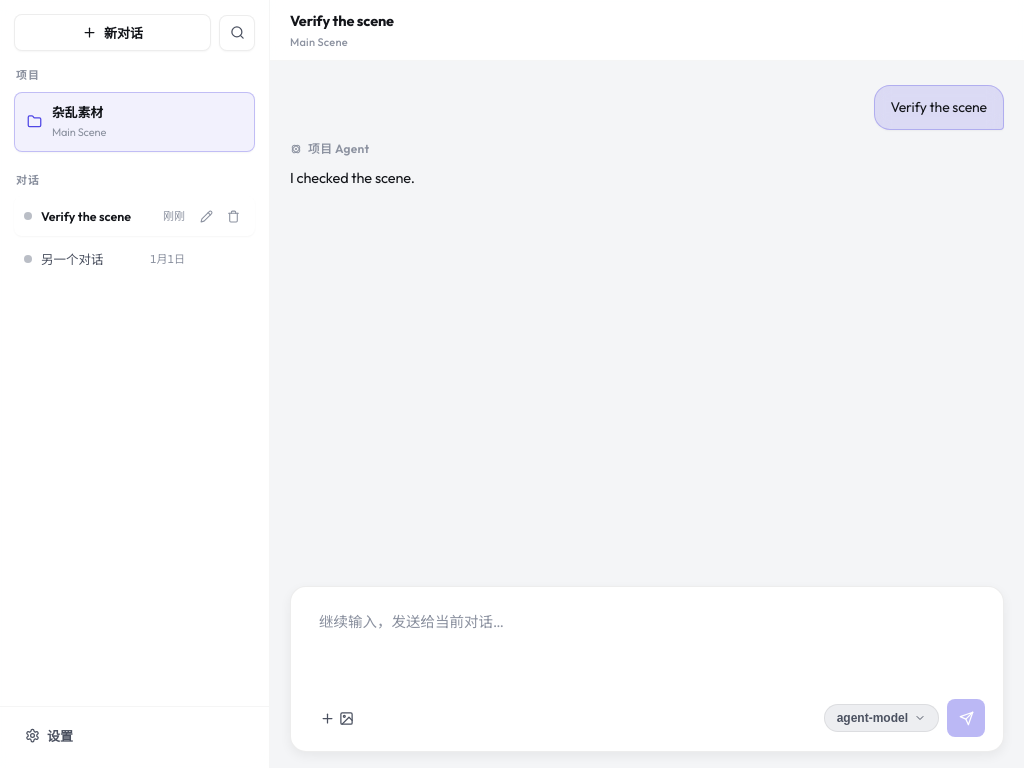
Scenario: AgentWindow conversation thread › scopes pending queued bubbles to the conversation the prompt was sent to
The width and height of the screenshot is (1024, 768).
# Initial conversation selection can replace the composer after findBy resolves.
Type "read the assets" into the text box with placeholder "继续输入，发送给当前对话…".
click(647, 645); type("read the assets")  # box [309,603,985,687]
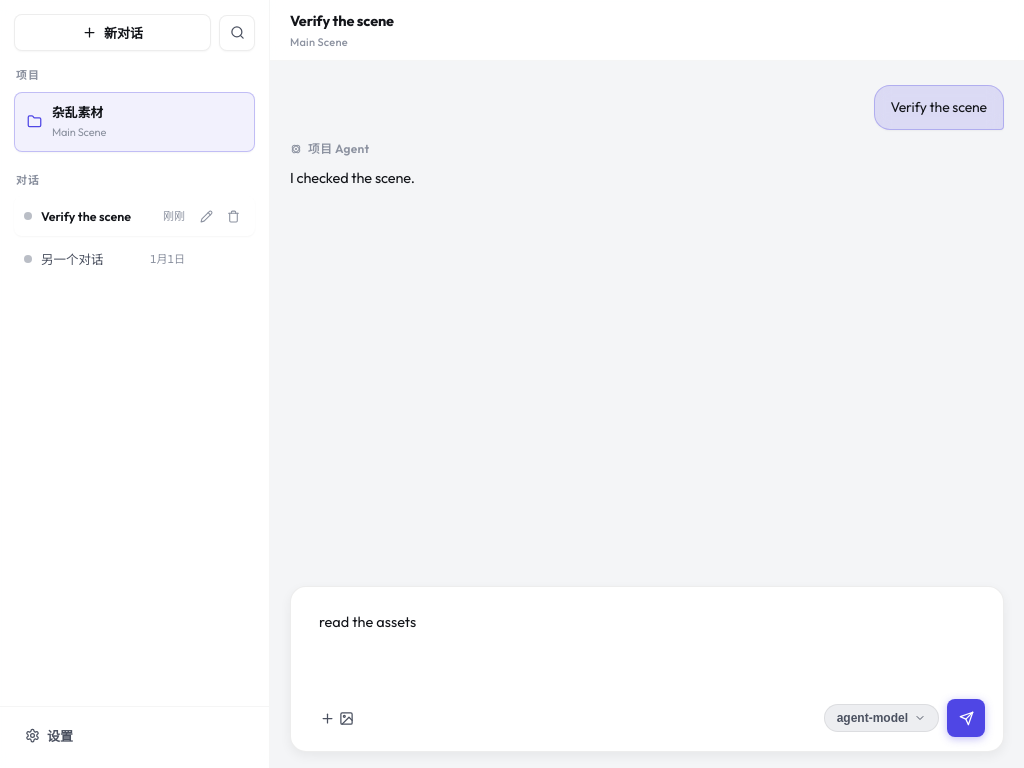
Press Enter in the text box with placeholder "继续输入，发送给当前对话…", box [309,603,985,687]
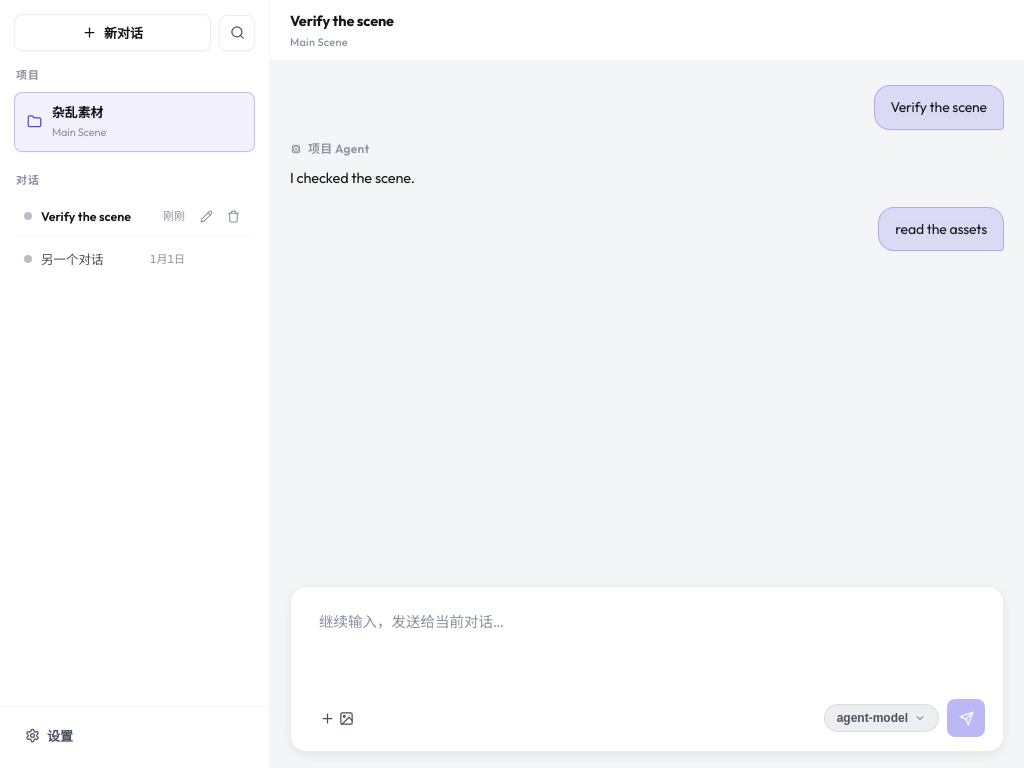
Result: the text "read the assets" is shown once at [895,218,987,240]
# Switching to the other conversation hides the pending bubble.
Click the button "另一个对话 1月1日".
click(134, 259)  # box [14,239,255,279]
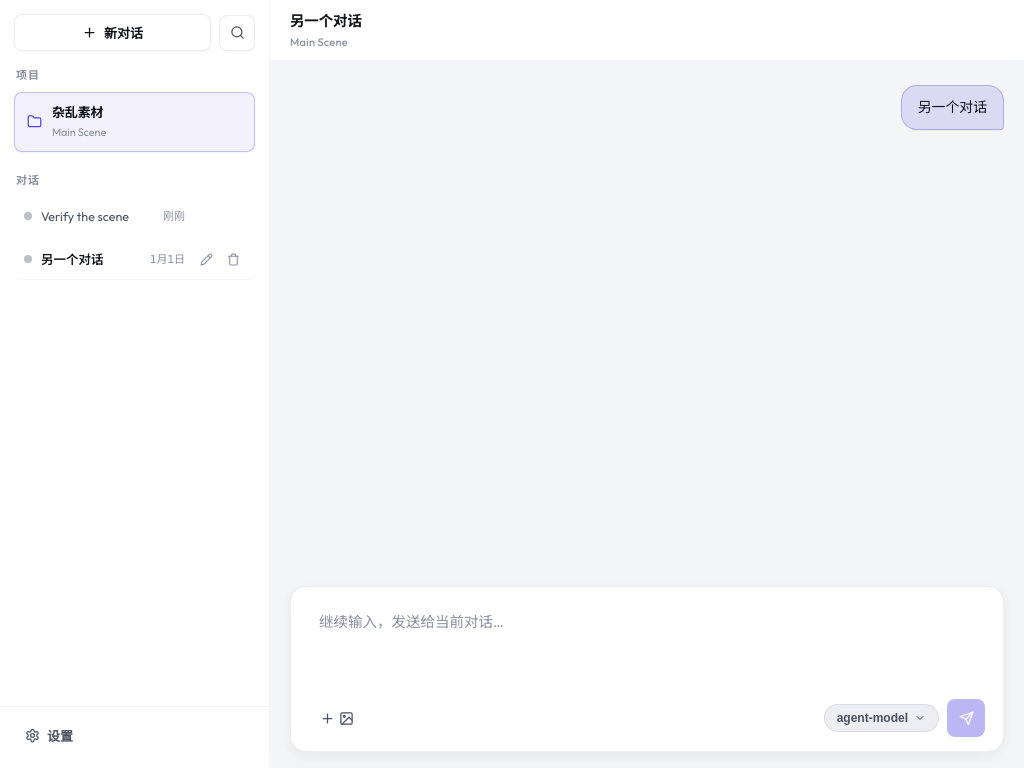
Result: the text "read the assets" is gone
# Switching back restores it while the message is still undelivered.
Click the button "Verify the scene 刚刚".
click(134, 216)  # box [14,196,255,236]
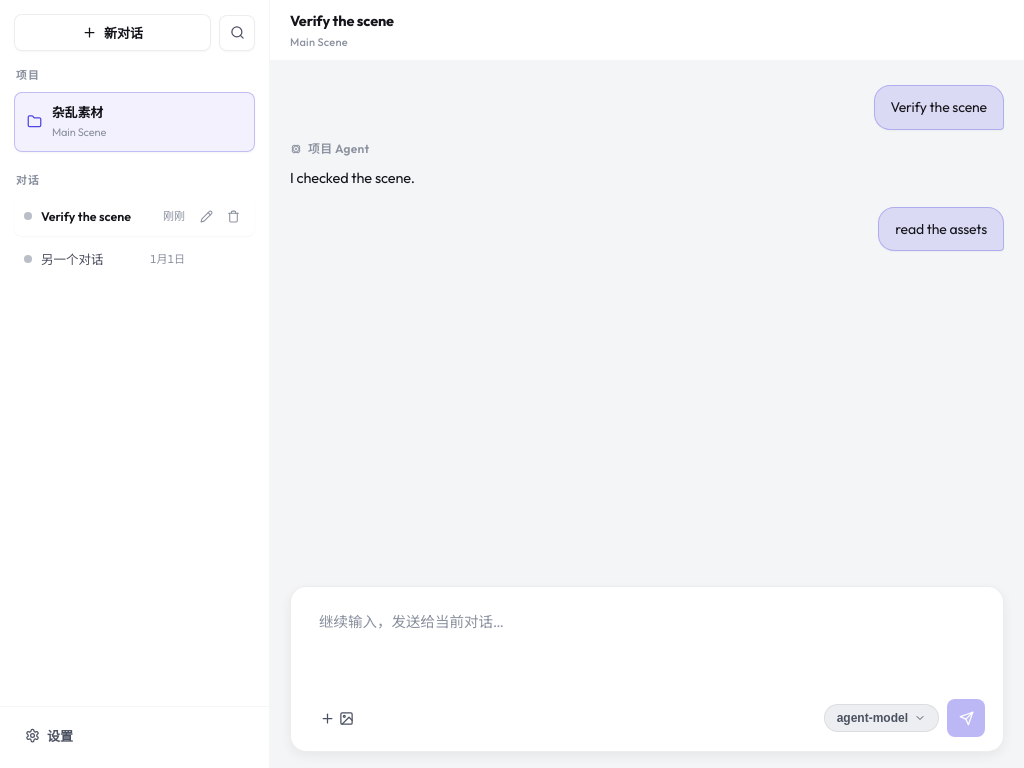
Result: the text "read the assets" is shown once at [895,218,987,240]
